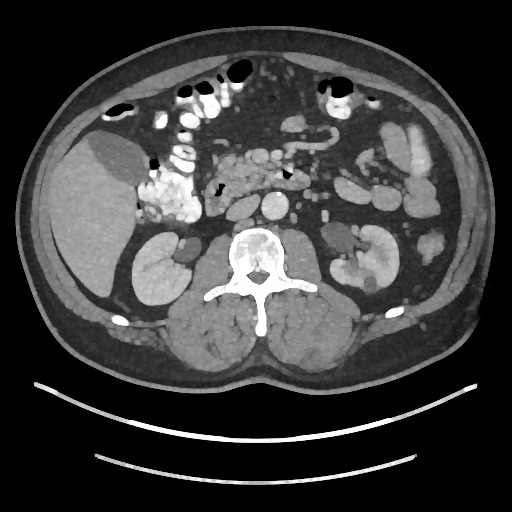Lesion: (359, 273, 384, 296)
